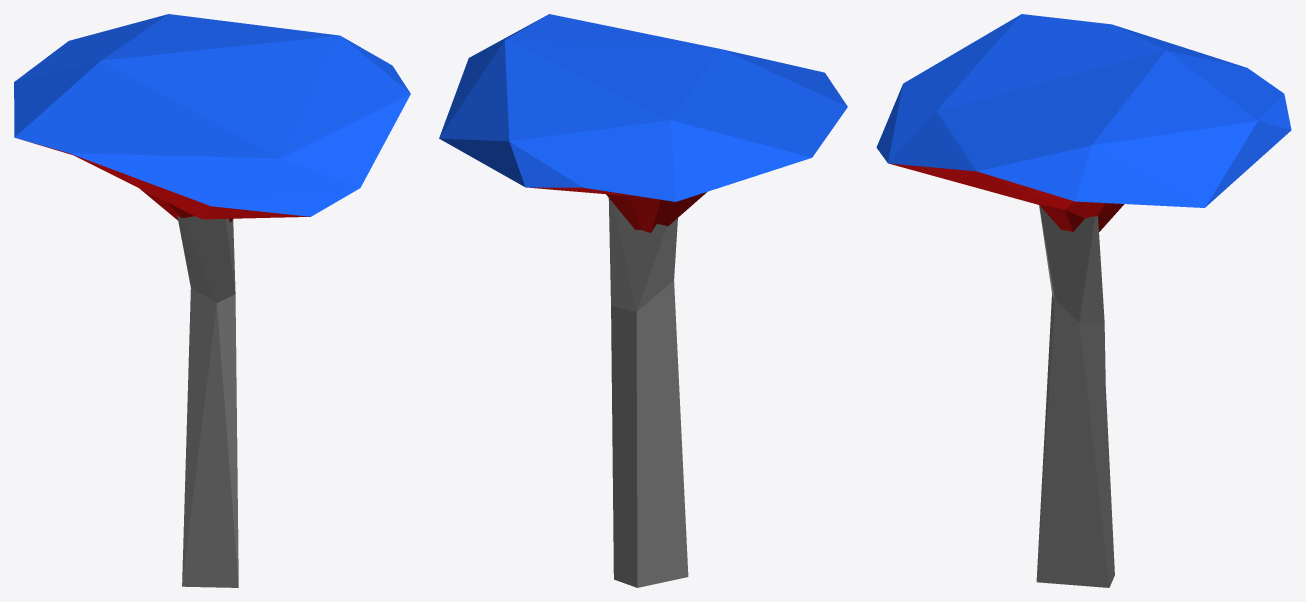
The model's file is FungiRussula03.fbx.
3 renders of one model, left to right at view 1: azimuth 30°, elevation 25°; view 2: azimuth 150°, elevation 25°; view 3: azimuth 270°, elevation 25°, orthographic.
Parts seen in each view (by area): view 1: FungiRussula03; view 2: FungiRussula03; view 3: FungiRussula03.
Part boxes in pixels (box(x1,y1,x2,y2)): FungiRussula03: box(14, 14, 410, 587); FungiRussula03: box(439, 14, 847, 587); FungiRussula03: box(876, 14, 1291, 587).
Bounding box in the file's own units: 38.12 × 50.72 × 38.2.
